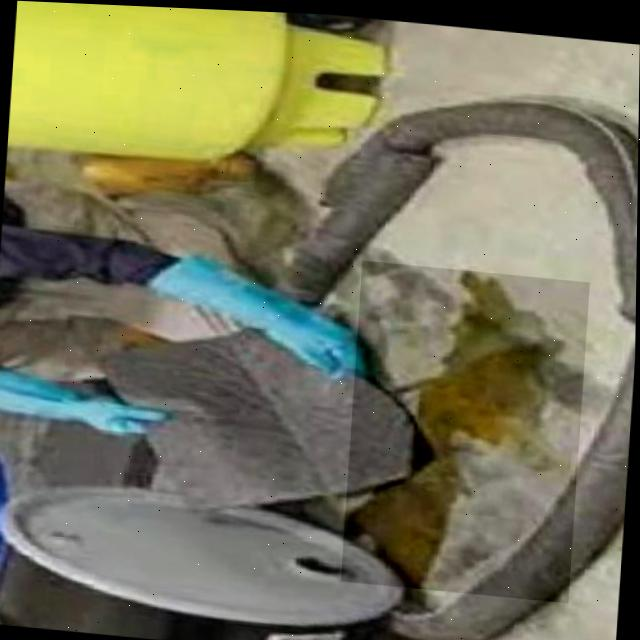spillage: (346, 267, 583, 585)
